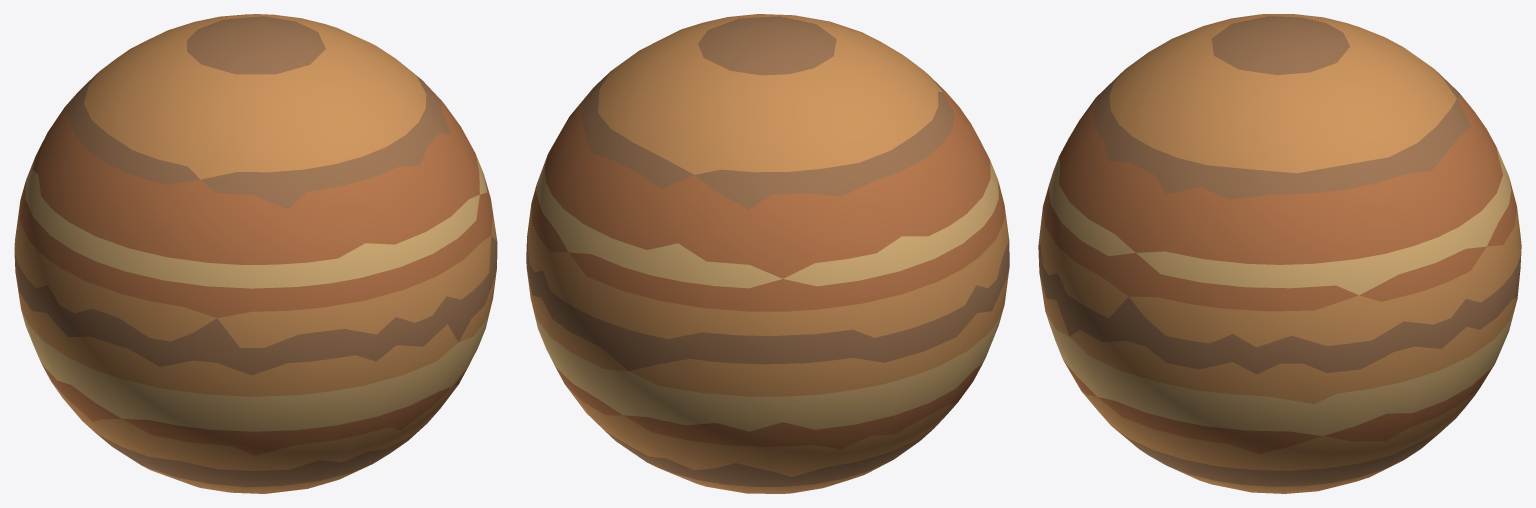
Rendered from planet_lava.repacked.glb.
The picture shows the model from 3 angles, left to right: view 1: azimuth 30°, elevation 25°; view 2: azimuth 150°, elevation 25°; view 3: azimuth 270°, elevation 25°; orthographic projection.
Visible parts, largest first — view 1: Planet_6; view 2: Planet_6; view 3: Planet_6.
Boxes of the visible parts, box(x1,y1,x2,y2) form: Planet_6: box(14, 14, 497, 493); Planet_6: box(526, 14, 1009, 493); Planet_6: box(1038, 14, 1521, 493).
Size of the model in its own units: 3.76 by 3.75 by 3.76.
1 material, 1 textured.
